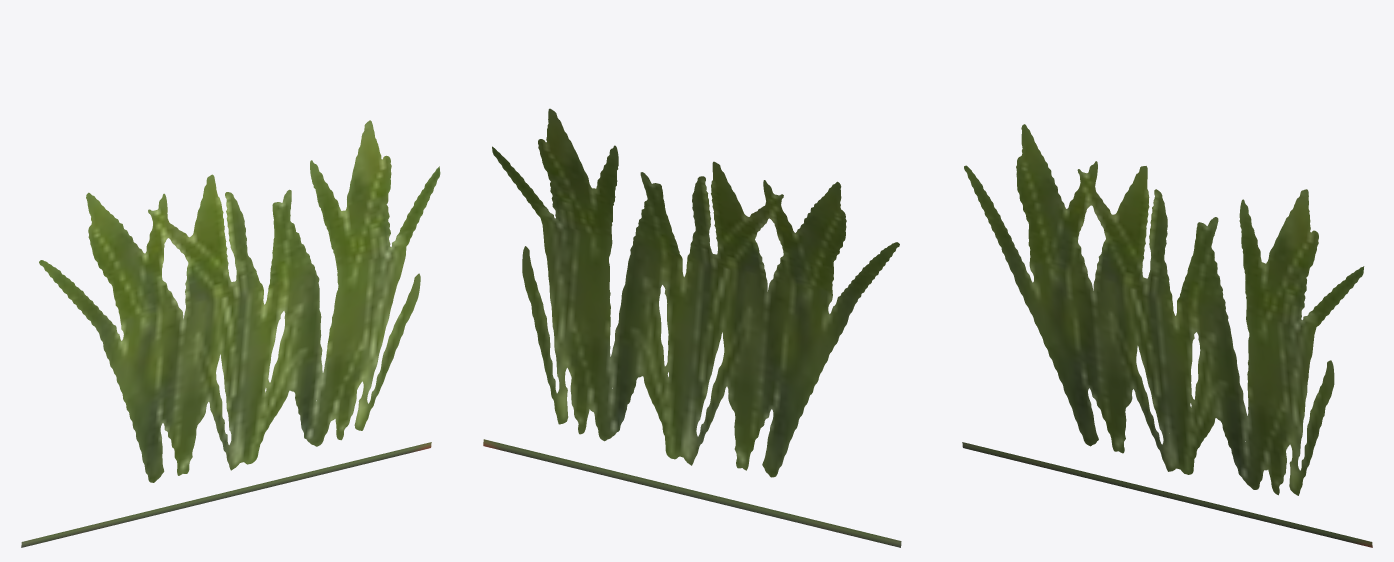
File: pm-grass-01-2.glb
The picture shows the model from 3 angles, left to right: view 1: azimuth 30°, elevation 25°; view 2: azimuth 150°, elevation 25°; view 3: azimuth 330°, elevation 25°; orthographic projection.
Visible parts, largest first — view 1: Grass01_Art; view 2: Grass01_Art; view 3: Grass01_Art.
Boxes of the visible parts, x1=… form: Grass01_Art: x1=21, y1=120, x2=440, y2=547; Grass01_Art: x1=483, y1=108, x2=901, y2=547; Grass01_Art: x1=962, y1=124, x2=1372, y2=547.
Bounding box in the file's own units: 1.51 × 1.51 × 0.1499.
1 material, 1 textured.
